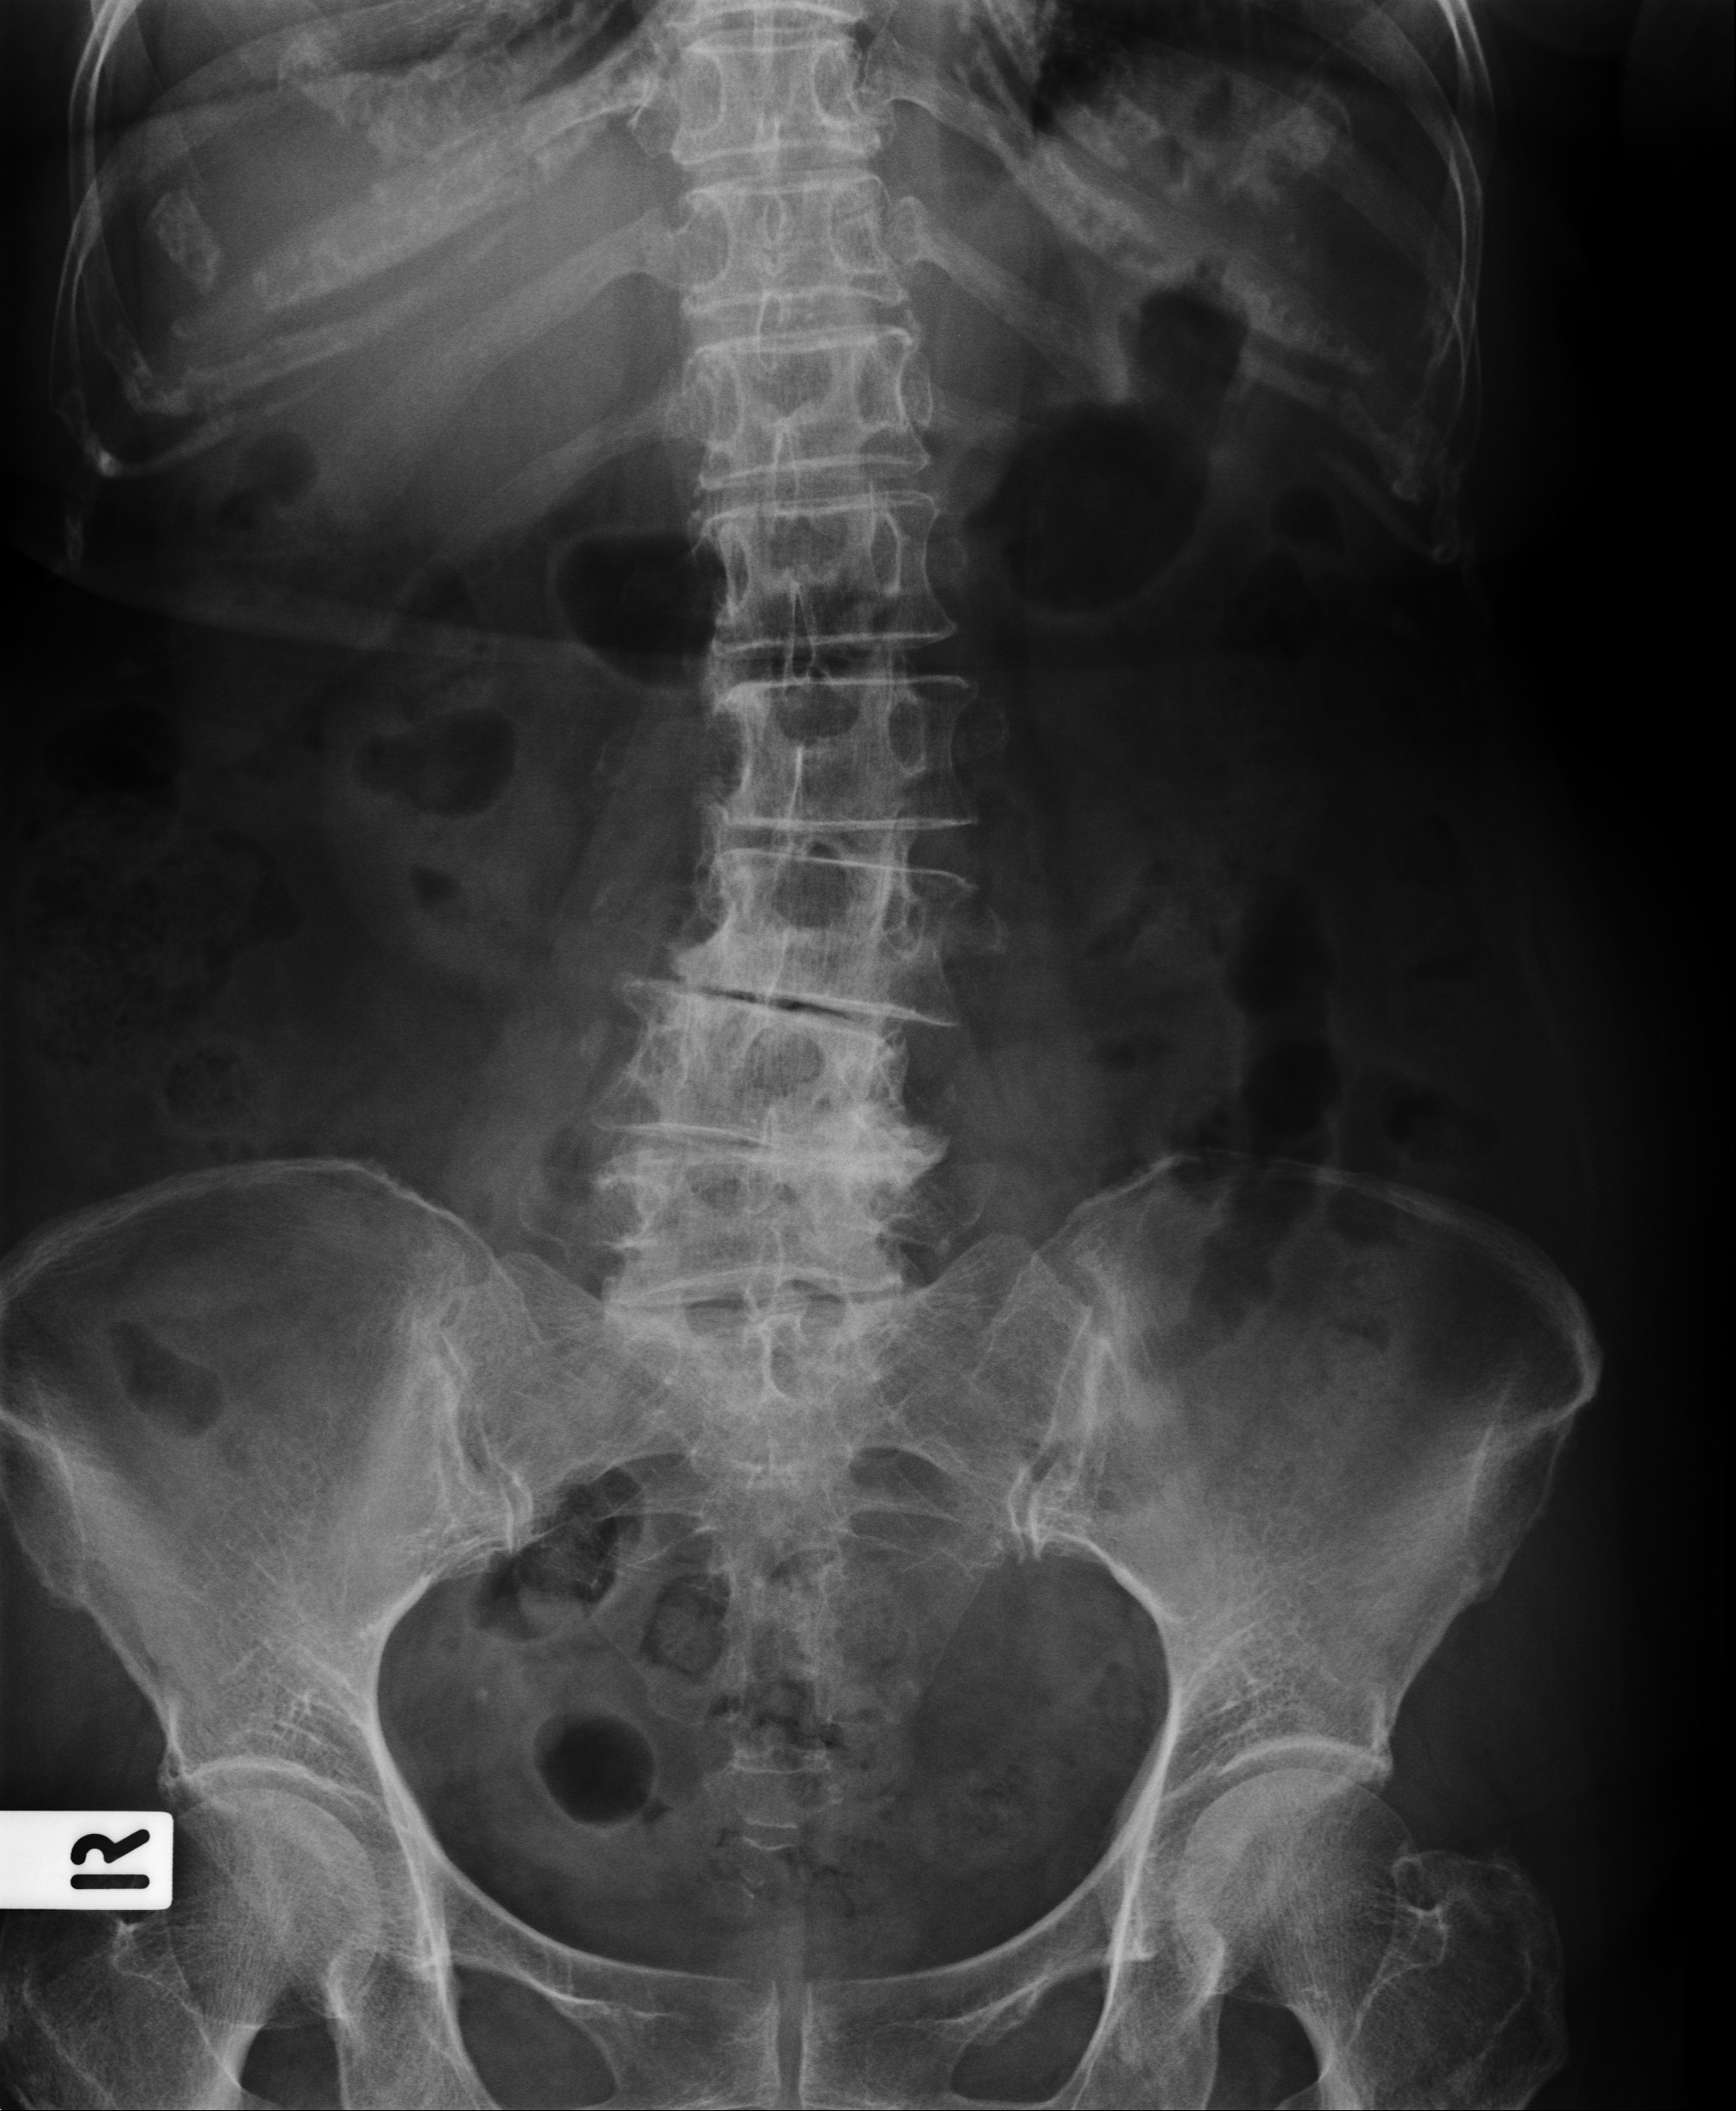lumbar scoliosis: (594, 18, 982, 1324)
